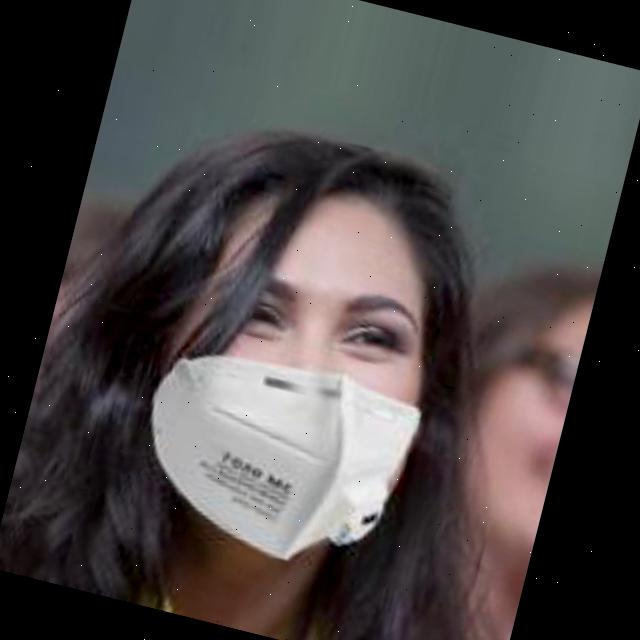suspicion: (104, 82, 516, 563)
